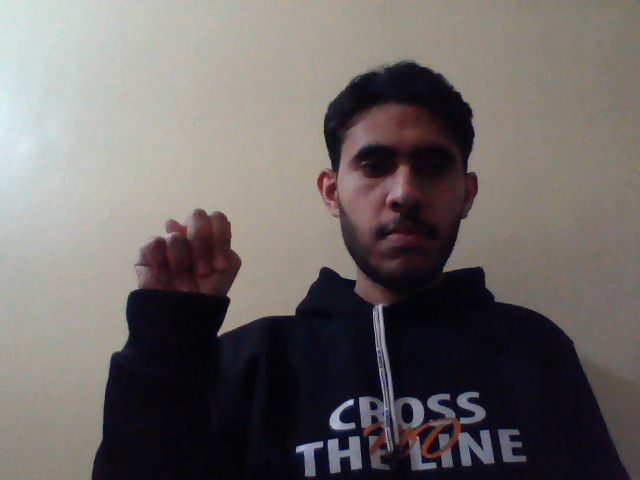N: (131, 205, 246, 316)
